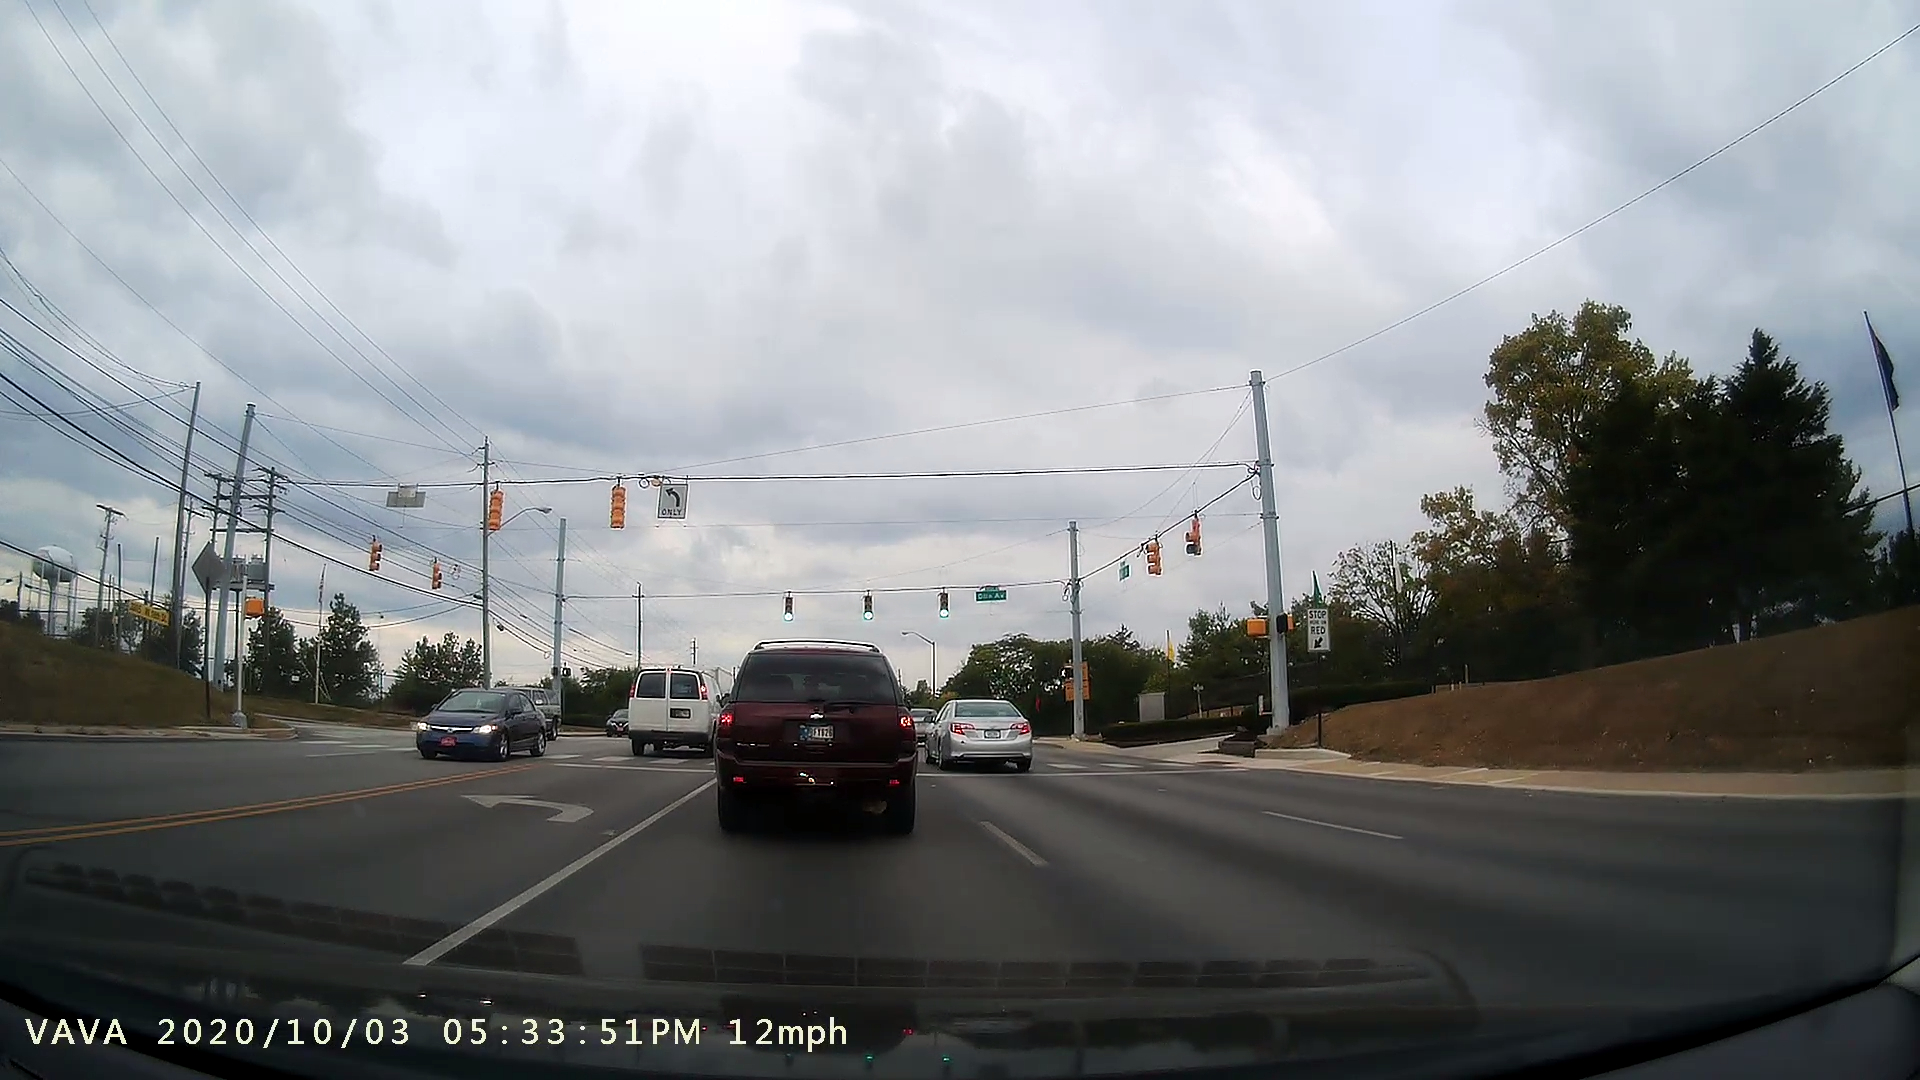left_turn: (459, 767, 607, 832)
